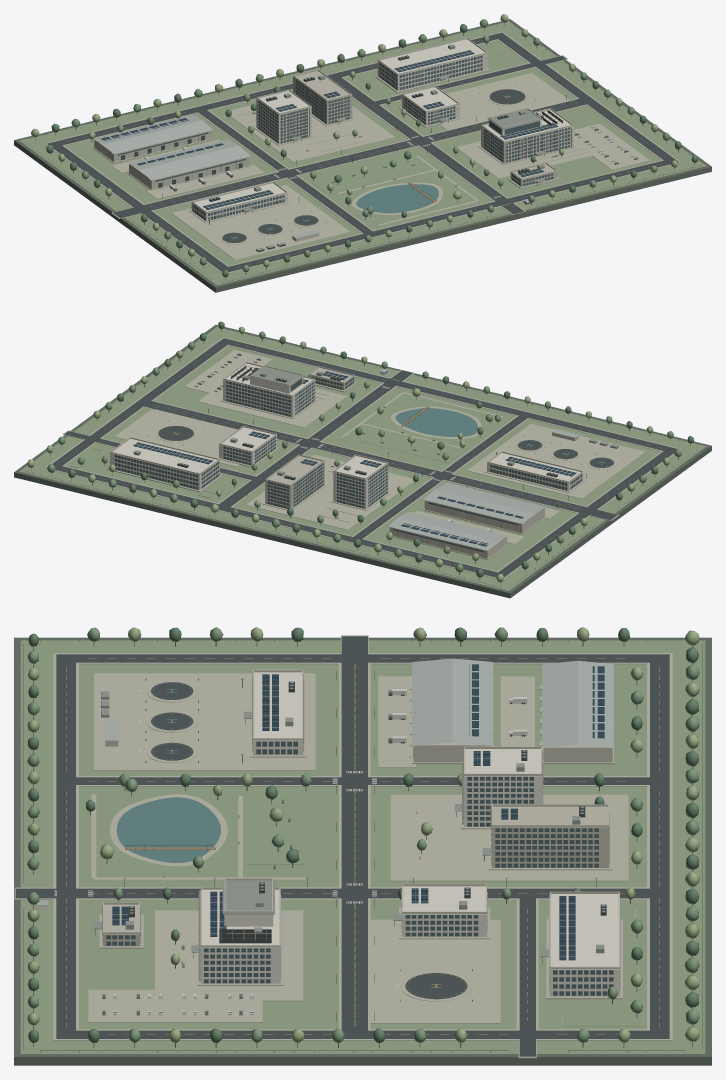
Rendered from campus.glb.
3 views of the same model, one above another, from view 1: azimuth 30°, elevation 25°; view 2: azimuth 150°, elevation 25°; view 3: azimuth 270°, elevation 25° (orthographic). The views are drawn at different scales.
Visible parts, largest first — view 1: Site foundation, road surfaces and paving, Landscape ground and paths, B05 Emergency service and medical logistics, B01 Distribution warehouse, Landing infrastructure and street furniture, B02 Logistics and maintenance warehouse, B08 Park operations centre, B03 Research office A, B07 Flight operations station, B04 Research office B, B06 Technical support laboratory, B08 Upper conference pavilion and terrace (+1 smaller); view 2: Site foundation, road surfaces and paving, Landscape ground and paths, B05 Emergency service and medical logistics, B01 Distribution warehouse, B02 Logistics and maintenance warehouse, Landing infrastructure and street furniture, B08 Park operations centre, B03 Research office A, B04 Research office B, B07 Flight operations station, B06 Technical support laboratory, B08 Upper conference pavilion and terrace (+1 smaller); view 3: Site foundation, road surfaces and paving, Landscape ground and paths, Landing infrastructure and street furniture, B05 Emergency service and medical logistics, B04 Research office B, B01 Distribution warehouse, B02 Logistics and maintenance warehouse, B08 Park operations centre, B03 Research office A, B07 Flight operations station, B06 Technical support laboratory, B08 Upper conference pavilion and terrace (+3 smaller).
Part boxes in pixels (<box>): Site foundation, road surfaces and paving: <box>14,19,711,292</box>; Landscape ground and paths: <box>311,42,517,225</box>; B05 Emergency service and medical logistics: <box>375,37,490,92</box>; B01 Distribution warehouse: <box>127,139,250,190</box>; Landing infrastructure and street furniture: <box>28,23,701,281</box>; B02 Logistics and maintenance warehouse: <box>93,115,213,163</box>; B08 Park operations centre: <box>478,108,575,165</box>; B03 Research office A: <box>254,89,313,145</box>; B07 Flight operations station: <box>189,181,290,223</box>; B04 Research office B: <box>293,69,354,126</box>; B06 Technical support laboratory: <box>399,85,462,127</box>; B08 Upper conference pavilion and terrace: <box>487,108,563,135</box>; Site foundation, road surfaces and paving: <box>14,324,711,598</box>; Landscape ground and paths: <box>70,392,503,497</box>; B05 Emergency service and medical logistics: <box>107,437,222,492</box>; B01 Distribution warehouse: <box>423,482,545,534</box>; B02 Logistics and maintenance warehouse: <box>389,511,508,559</box>; Landing infrastructure and street furniture: <box>25,328,697,587</box>; B08 Park operations centre: <box>220,361,318,418</box>; B03 Research office A: <box>330,454,390,510</box>; B04 Research office B: <box>262,454,326,510</box>; B07 Flight operations station: <box>485,451,585,492</box>; B06 Technical support laboratory: <box>217,425,279,467</box>; B08 Upper conference pavilion and terrace: <box>231,365,304,393</box>; Site foundation, road surfaces and paving: <box>14,635,711,1065</box>; Landscape ground and paths: <box>91,789,643,1026</box>; Landing infrastructure and street furniture: <box>23,639,702,1052</box>; B05 Emergency service and medical logistics: <box>540,891,622,999</box>; B04 Research office B: <box>482,804,612,870</box>; B01 Distribution warehouse: <box>409,658,493,764</box>; B02 Logistics and maintenance warehouse: <box>540,660,613,764</box>; B08 Park operations centre: <box>191,887,283,985</box>; B03 Research office A: <box>454,746,545,829</box>; B07 Flight operations station: <box>243,669,306,757</box>; B06 Technical support laboratory: <box>393,884,490,939</box>; B08 Upper conference pavilion and terrace: <box>219,878,274,943</box>.
Bounding box in the file's own units: 613 × 44.45 × 428.
